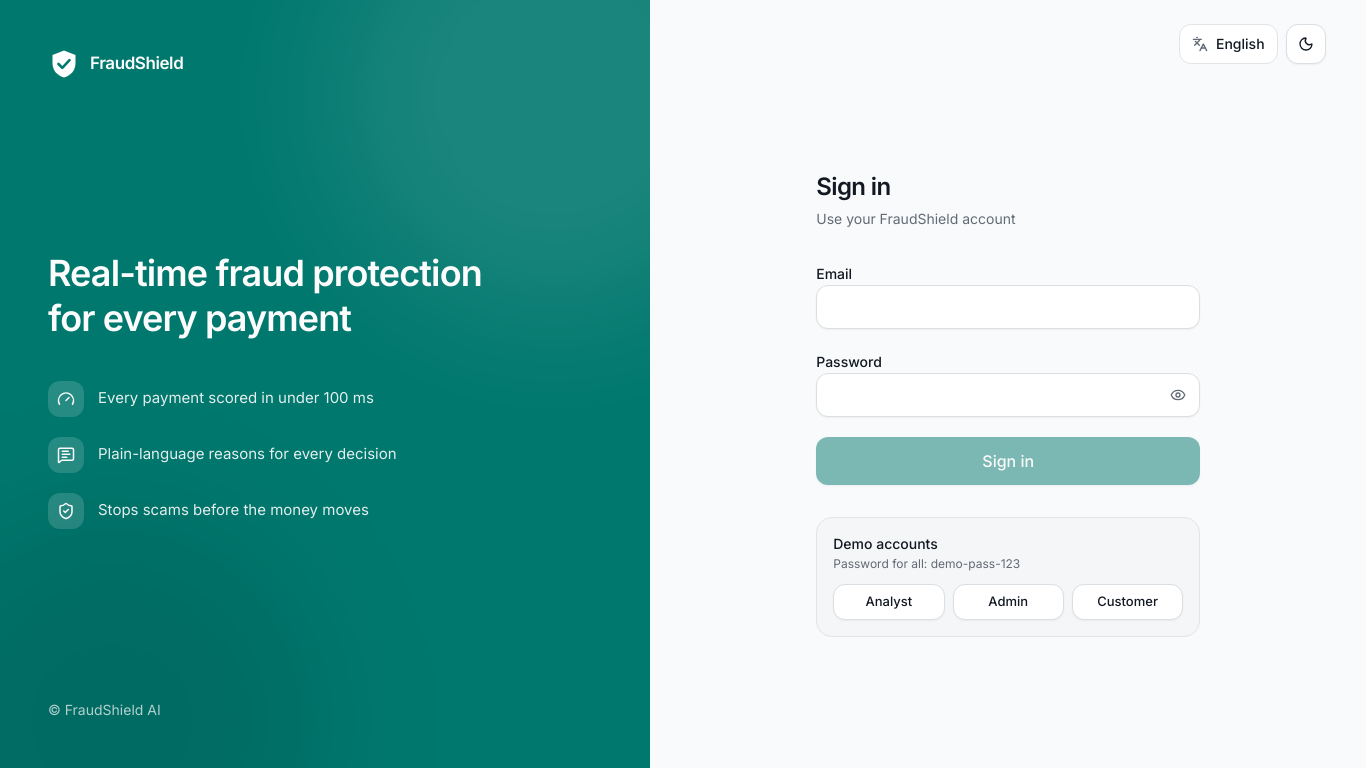
login and role-based redirect (spec 06 §1) › sends customers to /app
This screenshot has width=1366, height=768.
In the field labelled "Email": (1008, 307) x1=816 y1=285 x2=1200 y2=329, type "customer@demo.fraudshield"
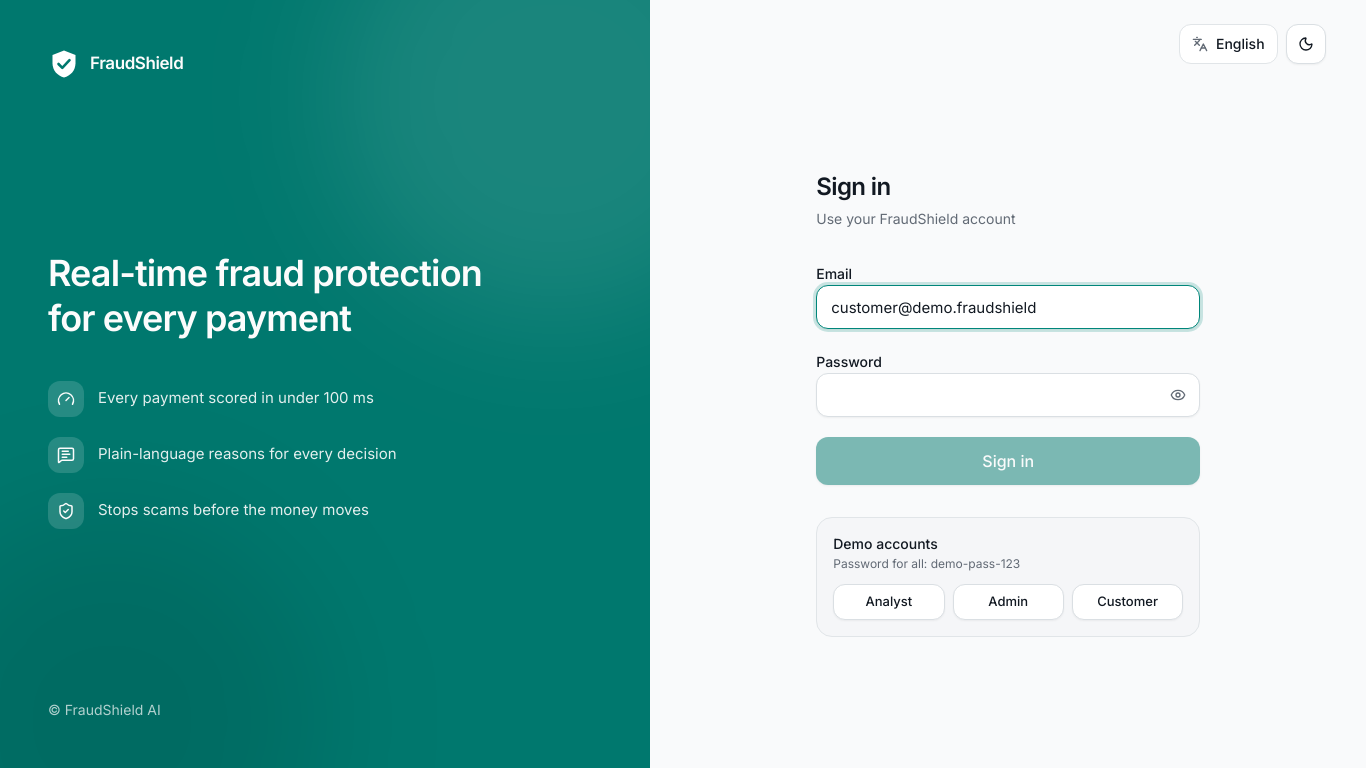
In the password field labelled "Password": (1008, 395) x1=816 y1=373 x2=1200 y2=417, type "demo-pass-123"
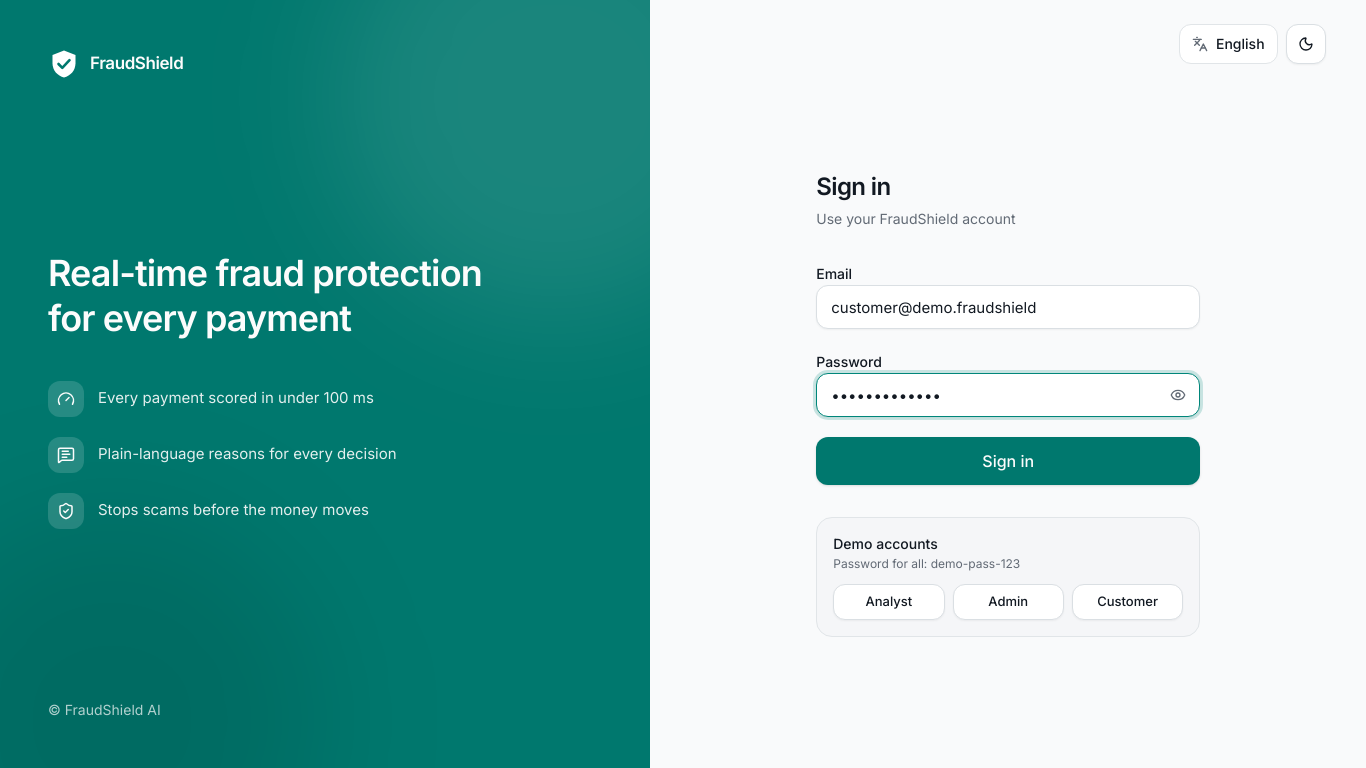
Click the button "Sign in": (1008, 461) x1=816 y1=437 x2=1200 y2=485
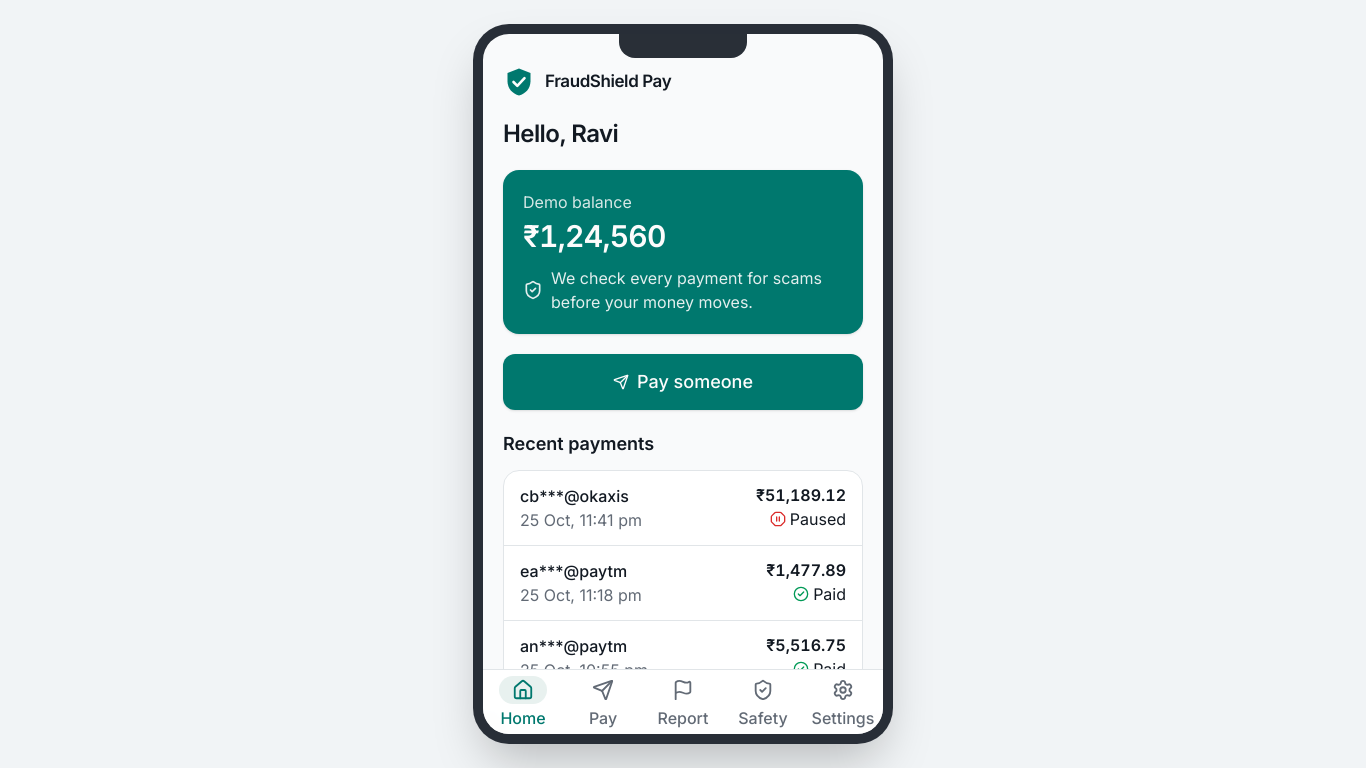
Check: the heading "Hello, Ravi" is shown, box x1=503 y1=119 x2=618 y2=148
